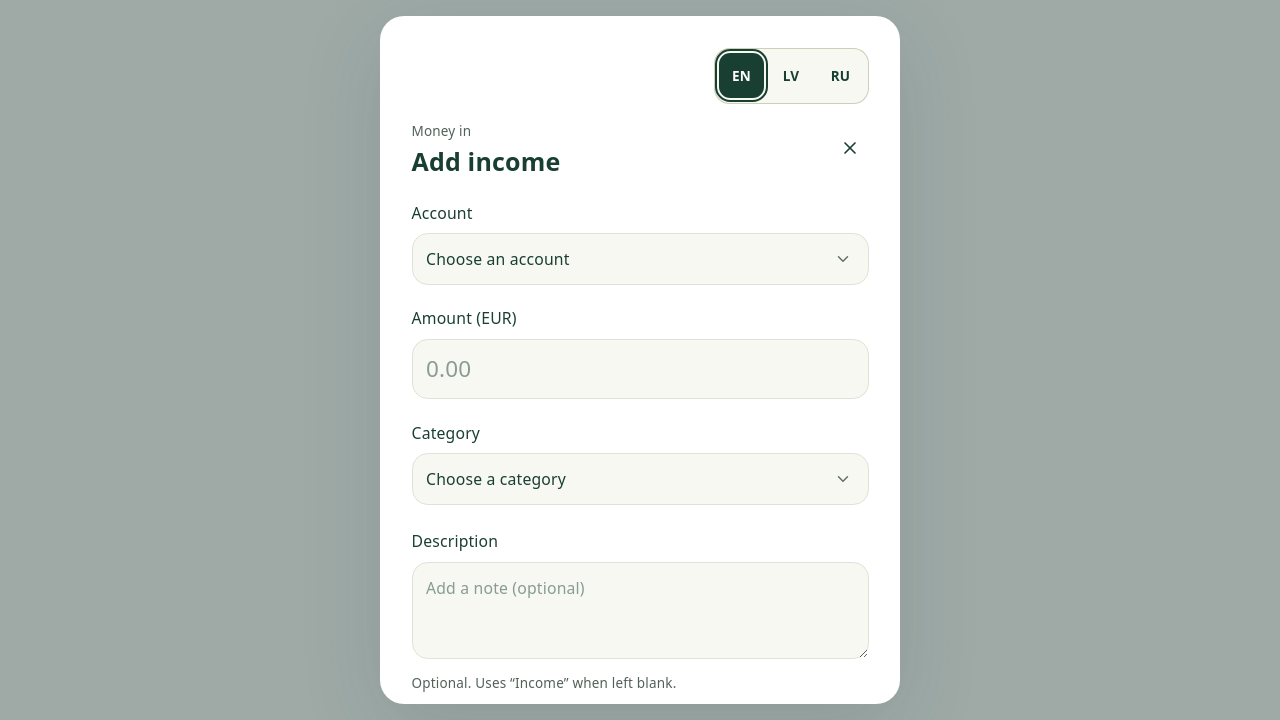
it: validates missing account and category
Type "10" into the field labelled "Amount (EUR)" at (640, 369), box x1=412 y1=339 x2=868 y2=399
(page scrolled)
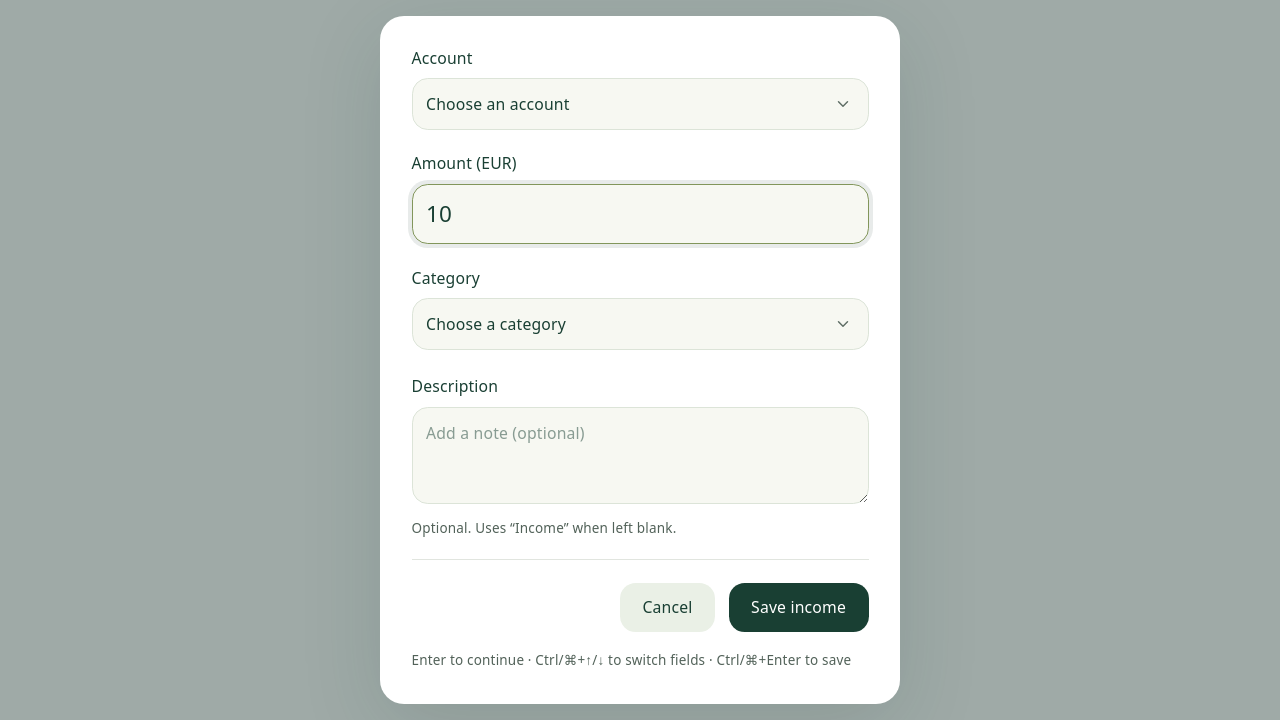
Click the button "Save income" at (799, 608), box x1=729 y1=583 x2=868 y2=632
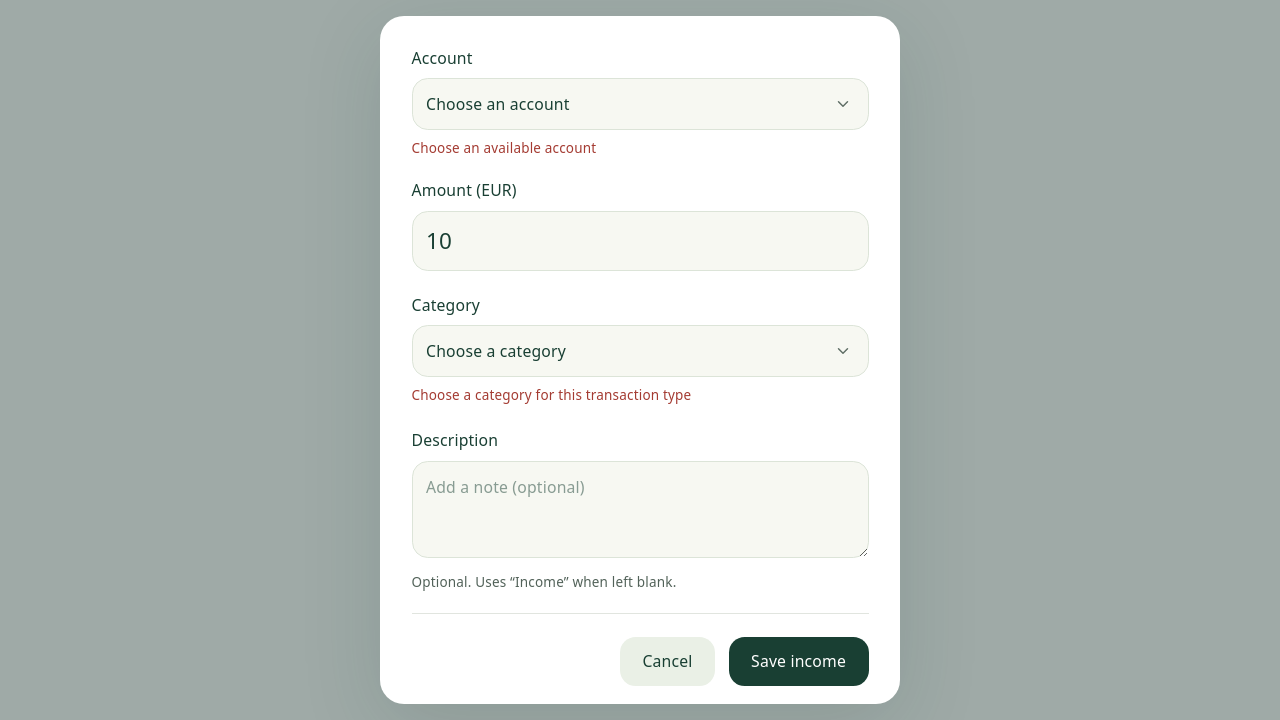
Check: the number of messages is 2, box x1=412 y1=139 x2=596 y2=157; x1=412 y1=386 x2=691 y2=404
